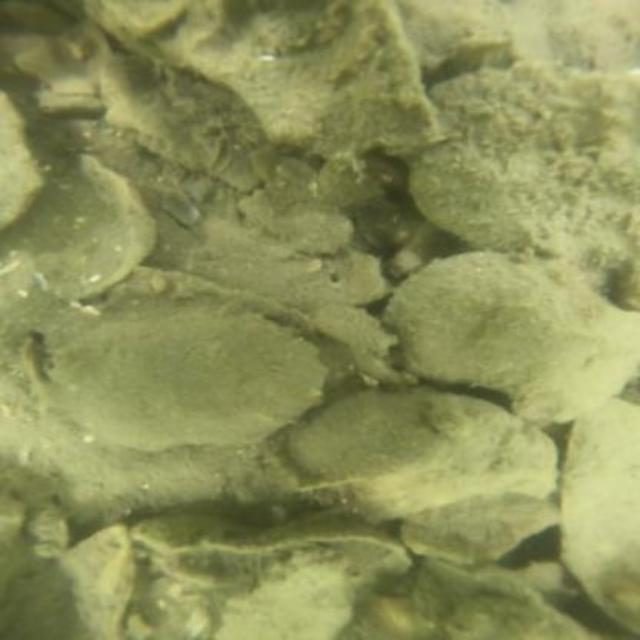Oyster-Closed: (71, 0, 446, 161), (405, 55, 640, 302), (381, 245, 638, 424), (45, 307, 323, 456), (336, 393, 569, 521), (556, 396, 640, 636), (17, 152, 145, 306), (0, 516, 148, 640), (290, 387, 457, 490), (200, 550, 362, 640), (0, 90, 51, 240)
Oyster-Open: (120, 511, 407, 590)
